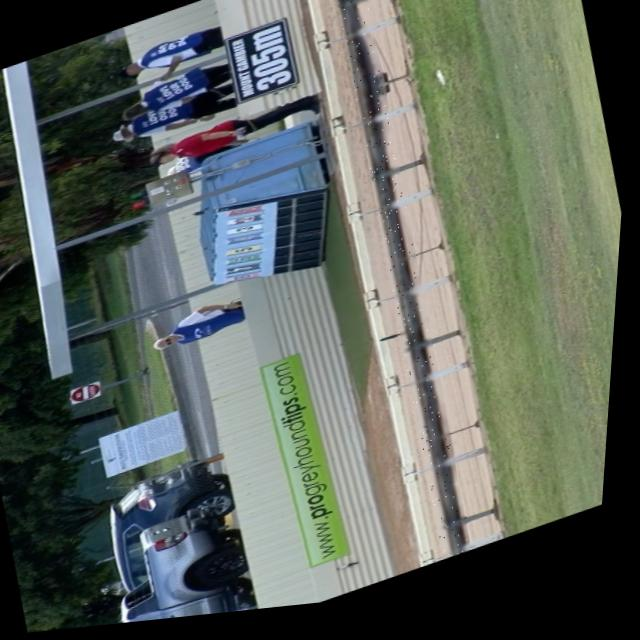rail: (337, 0, 478, 565)
